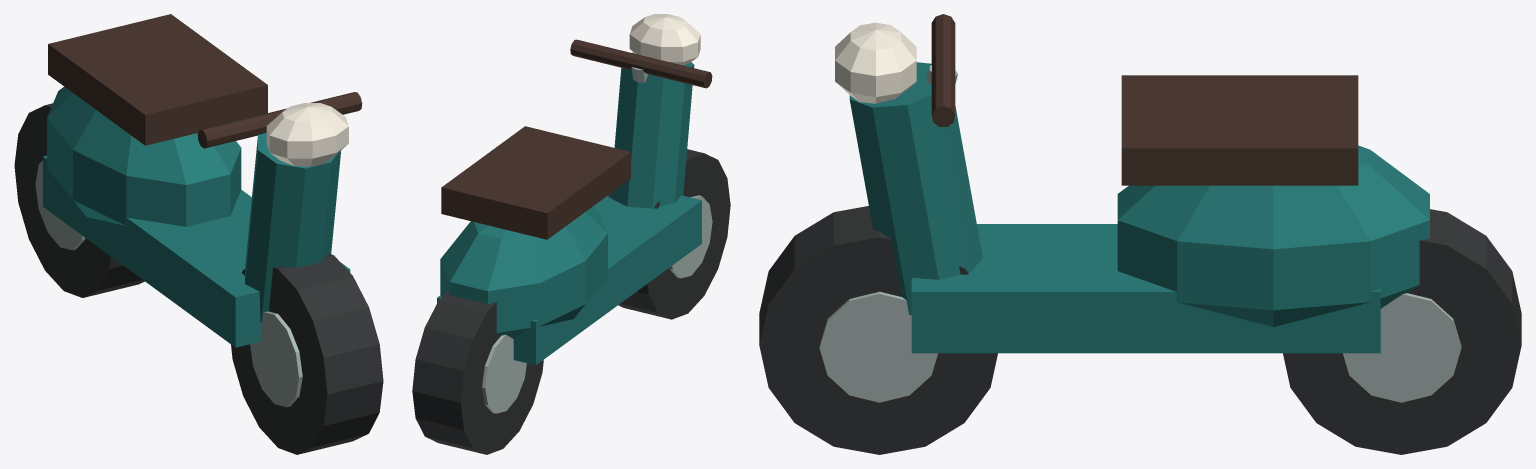
Rendered from 012_step_through_scooter.glb.
The picture shows the model from 3 angles, left to right: view 1: azimuth 30°, elevation 25°; view 2: azimuth 150°, elevation 25°; view 3: azimuth 270°, elevation 25°; orthographic projection. The views are drawn at different scales.
Parts seen in each view (by area): view 1: Step-through scooter; view 2: Step-through scooter; view 3: Step-through scooter.
Part boxes in pixels (x1=…): Step-through scooter: x1=14, y1=14, x2=383, y2=454; Step-through scooter: x1=412, y1=14, x2=730, y2=454; Step-through scooter: x1=759, y1=14, x2=1521, y2=454.
Size of the model in its own units: 0.58 by 1.2 by 2.03.
